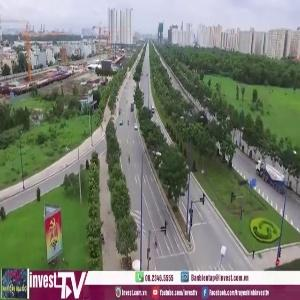drone: (219, 157, 273, 211)
